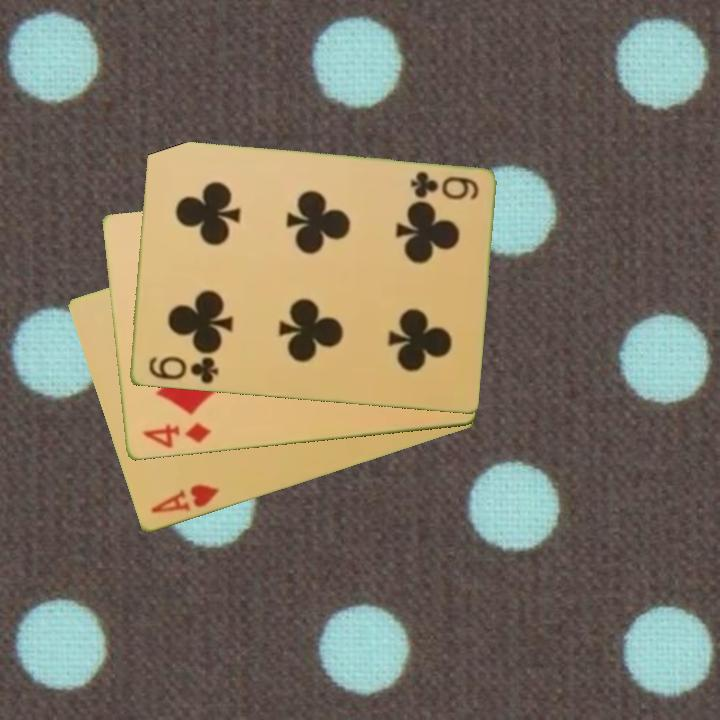4d: (139, 419, 214, 452)
6c: (406, 168, 482, 203), (144, 353, 221, 387)
Ah: (147, 481, 222, 517)
